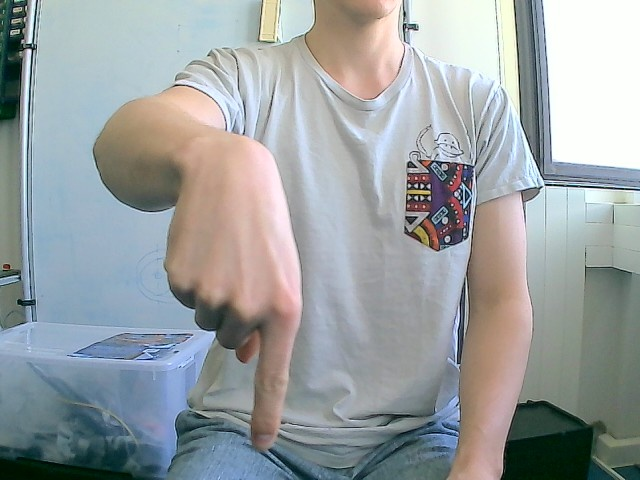down: (163, 131, 305, 452)
